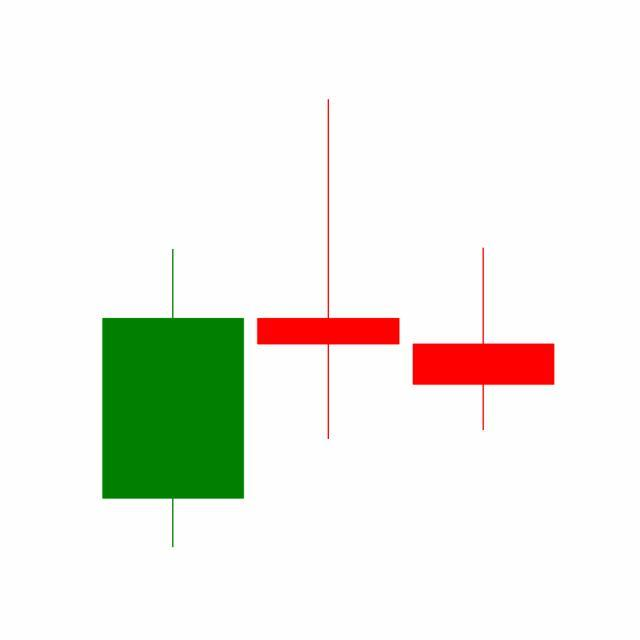Spinning Top: (250, 97, 407, 445)
